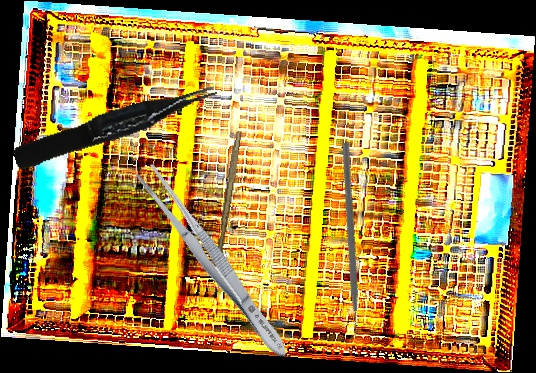Chopper: (248, 141, 442, 345)
Dressing Forceps: (131, 159, 296, 365)
Scalpel Handle: (214, 130, 242, 263)
Tissue Forceps: (9, 81, 223, 171)
